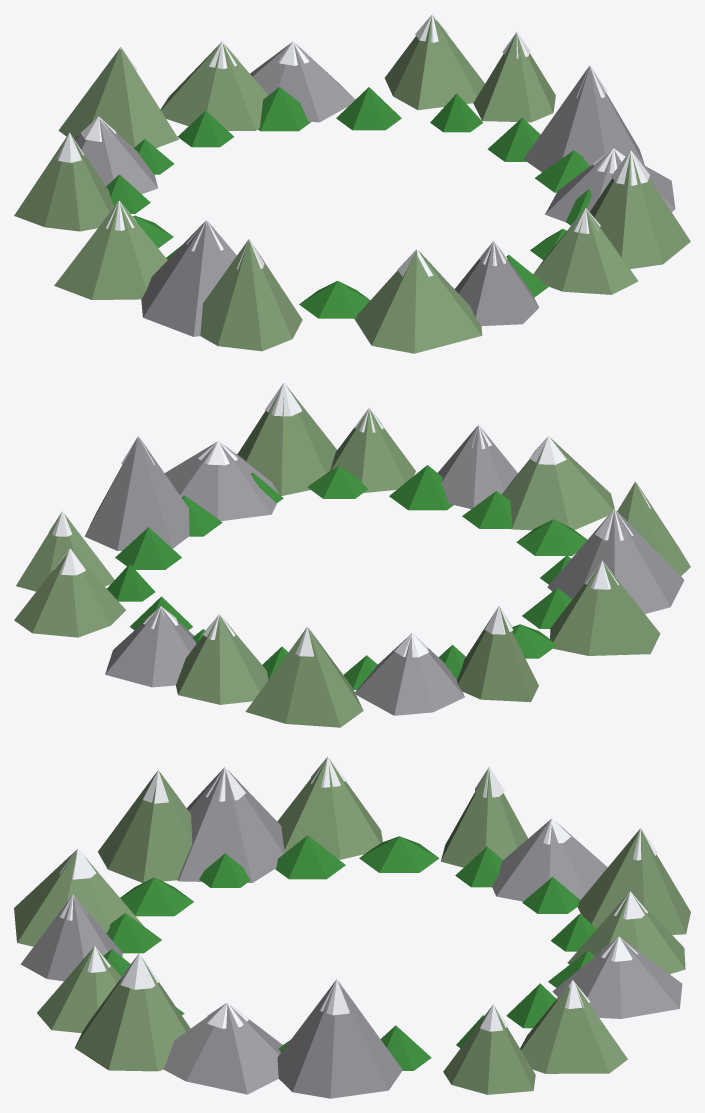
The model's file is mountains_ring.glb.
The picture shows the model from 3 angles, top to bottom: view 1: azimuth 30°, elevation 25°; view 2: azimuth 150°, elevation 25°; view 3: azimuth 270°, elevation 25°; orthographic projection. The views are drawn at different scales.
Parts seen in each view (by area): view 1: mountains_ring; view 2: mountains_ring; view 3: mountains_ring.
Part boxes in pixels (x1=…): mountains_ring: x1=14, y1=14, x2=690, y2=353; mountains_ring: x1=14, y1=382, x2=690, y2=727; mountains_ring: x1=14, y1=756, x2=690, y2=1098.
Bounding box in the file's own units: 201 × 31.86 × 197.
